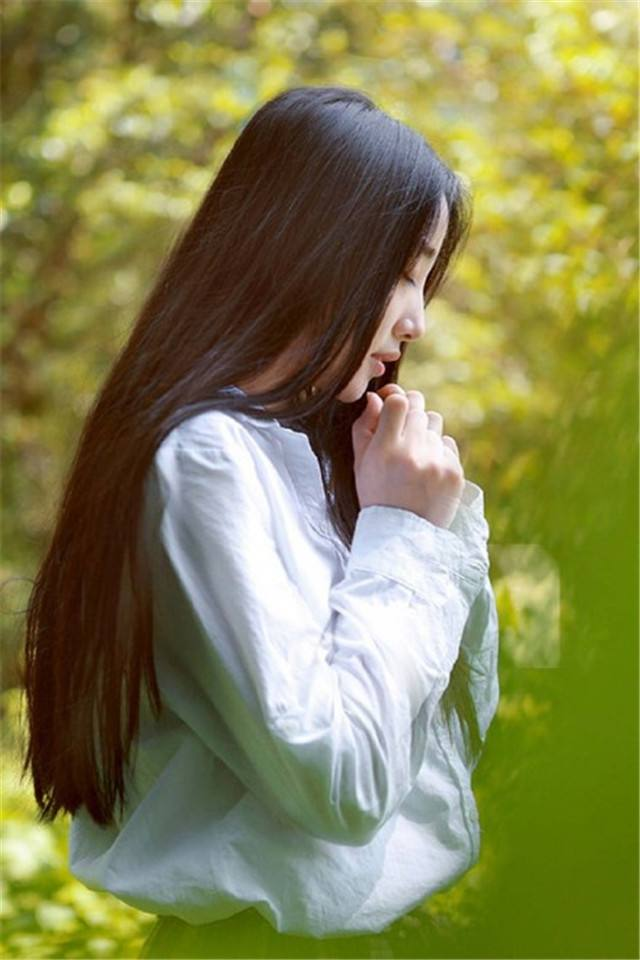person: (43, 102, 523, 891)
